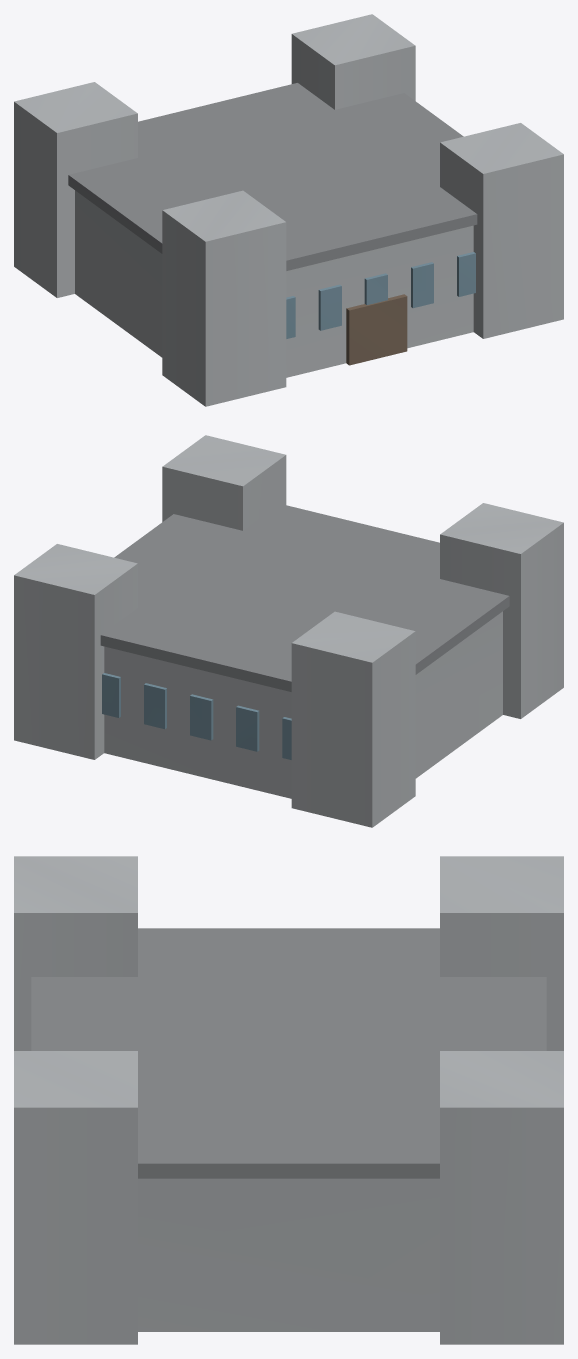
File: fort-03.glb
The picture shows the model from 3 angles, top to bottom: view 1: azimuth 30°, elevation 25°; view 2: azimuth 150°, elevation 25°; view 3: azimuth 270°, elevation 25°; orthographic projection. The views are drawn at different scales.
Visible parts, largest first — view 1: world; view 2: world; view 3: world.
Boxes of the visible parts, x1,y1,x2,y2 form: world: (14, 14, 563, 406); world: (14, 435, 563, 827); world: (14, 856, 563, 1344).
Size of the model in its own units: 2.5 by 1.1 by 2.32.
